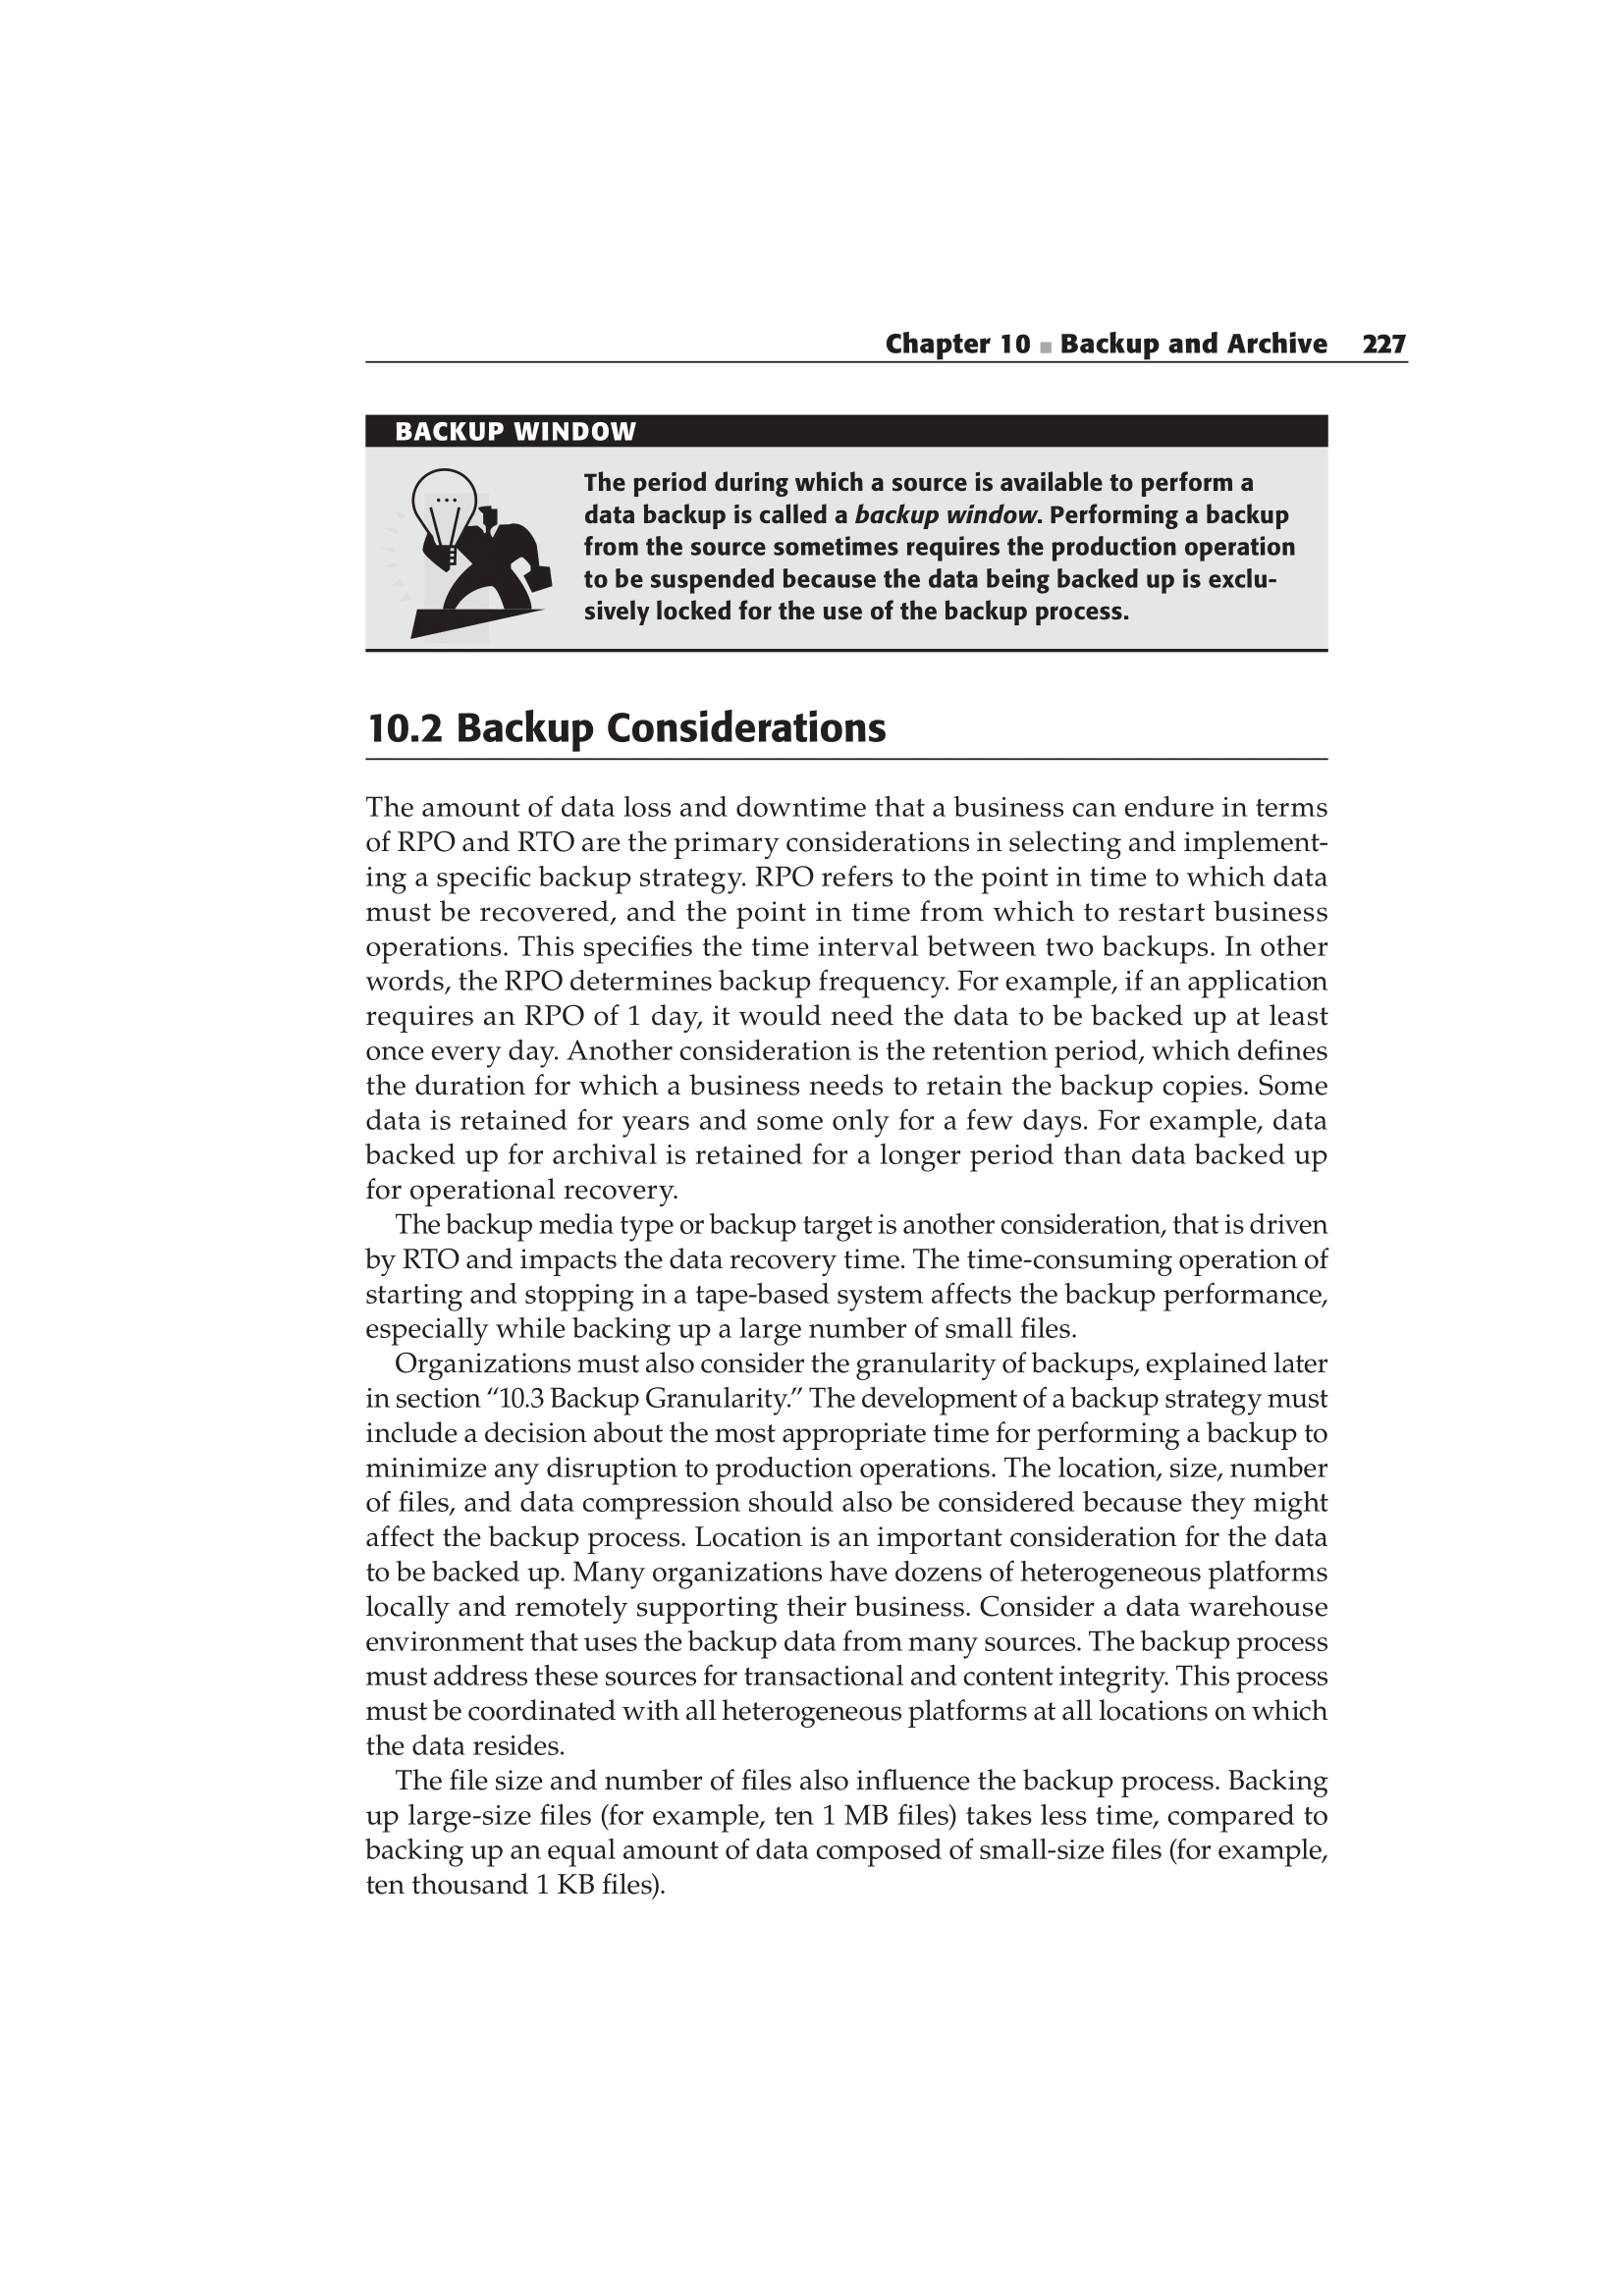Image: (383, 442, 574, 648)
Paragraph: (357, 781, 1347, 1201), (353, 1350, 1323, 1755), (357, 1762, 1324, 1913), (351, 1206, 1338, 1346), (576, 456, 1310, 634), (854, 314, 1439, 370), (343, 693, 908, 744), (388, 393, 662, 451)
